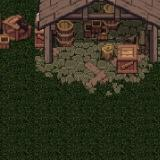Hide: (78, 50, 151, 117)
Obstacle: (32, 0, 160, 100), (0, 0, 32, 55)
